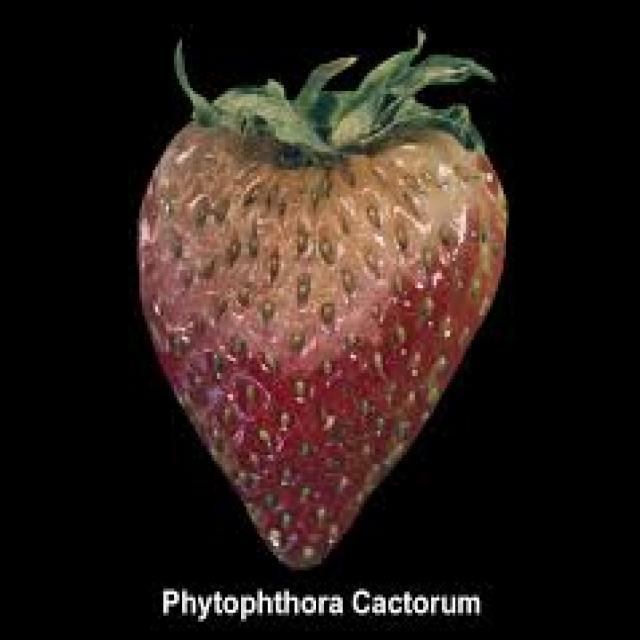Podredumbre de cuero: (129, 82, 507, 569)
